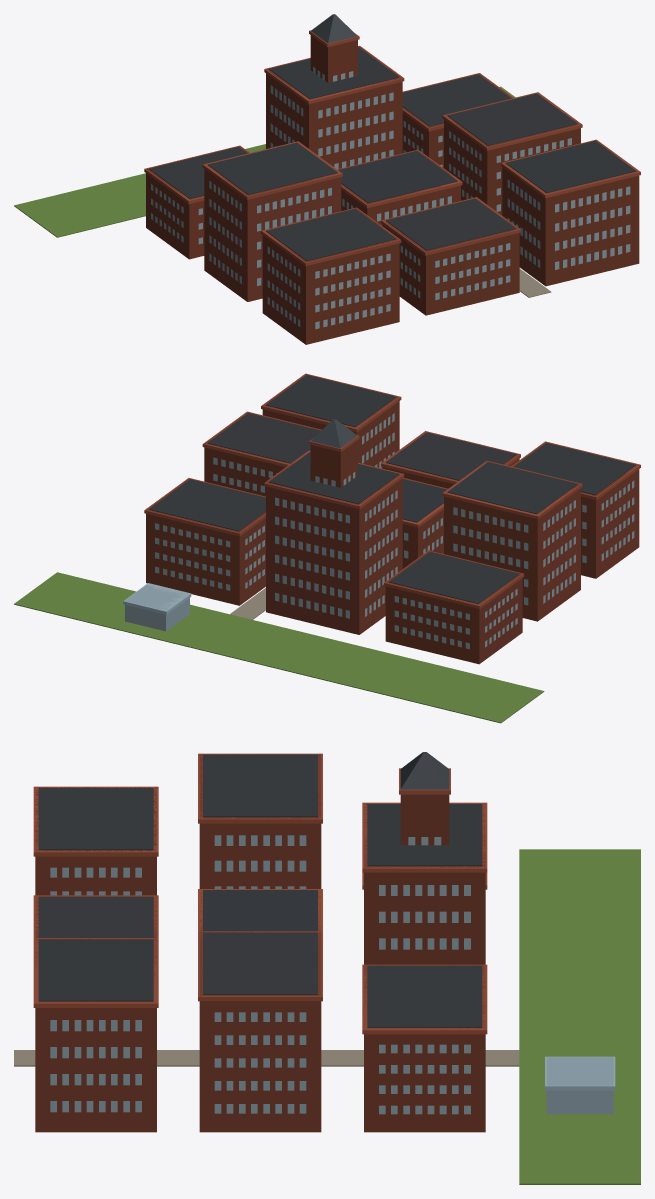
3 views of the same model, one above another, from view 1: azimuth 30°, elevation 25°; view 2: azimuth 150°, elevation 25°; view 3: azimuth 270°, elevation 25° (orthographic). The views are drawn at different scales.
Parts seen in each view (by area): view 1: dumbo-lod1; view 2: dumbo-lod1; view 3: dumbo-lod1.
Boxes of the visible parts, x1,y1,x2,y2 form: dumbo-lod1: (14, 14, 640, 344); dumbo-lod1: (14, 373, 640, 723); dumbo-lod1: (14, 752, 640, 1184).
Size of the model in its own units: 260 by 95.99 by 206.
